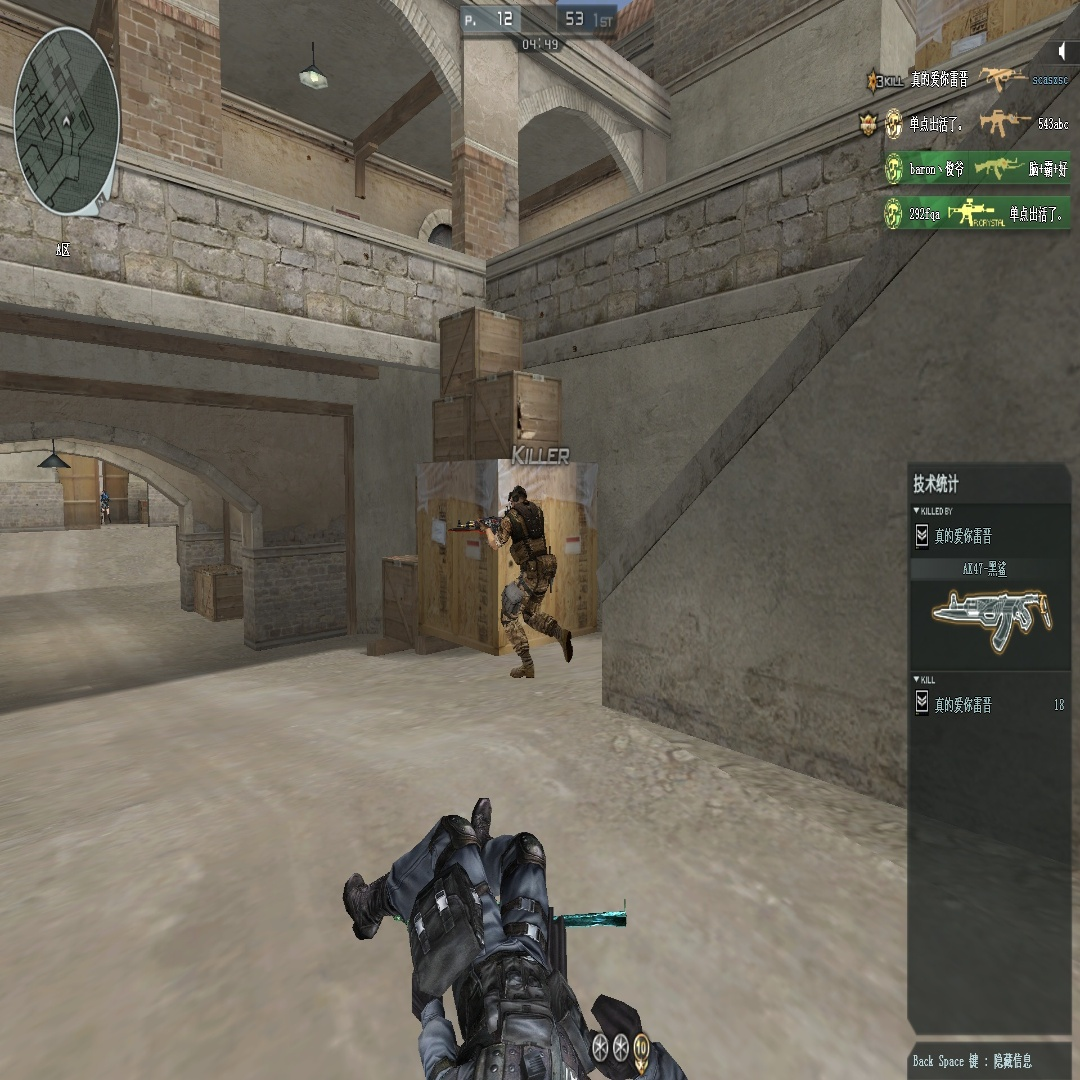head: (509, 485, 526, 507)
p: (478, 482, 574, 671)
